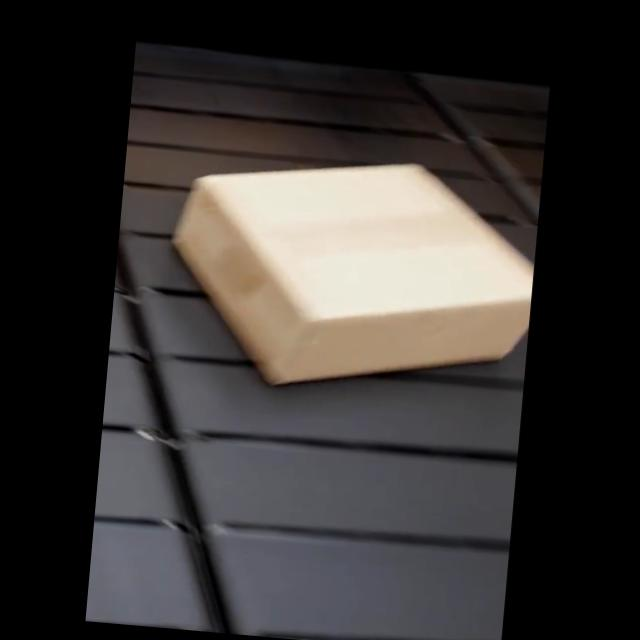box: (162, 143, 538, 404)
